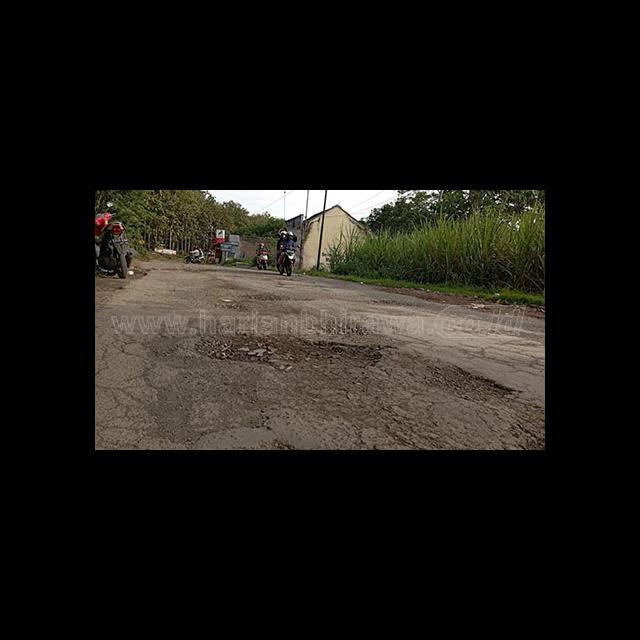lubang_kecil: (187, 326, 398, 379), (426, 353, 518, 413), (224, 283, 318, 305), (353, 291, 425, 315)
retak_kulit_buaya: (95, 322, 154, 450)
